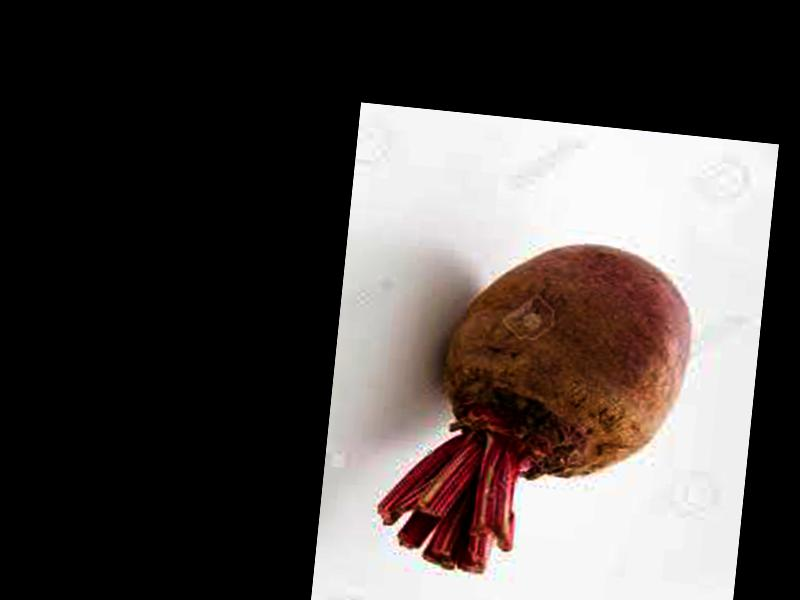Beet: (369, 224, 700, 591)
